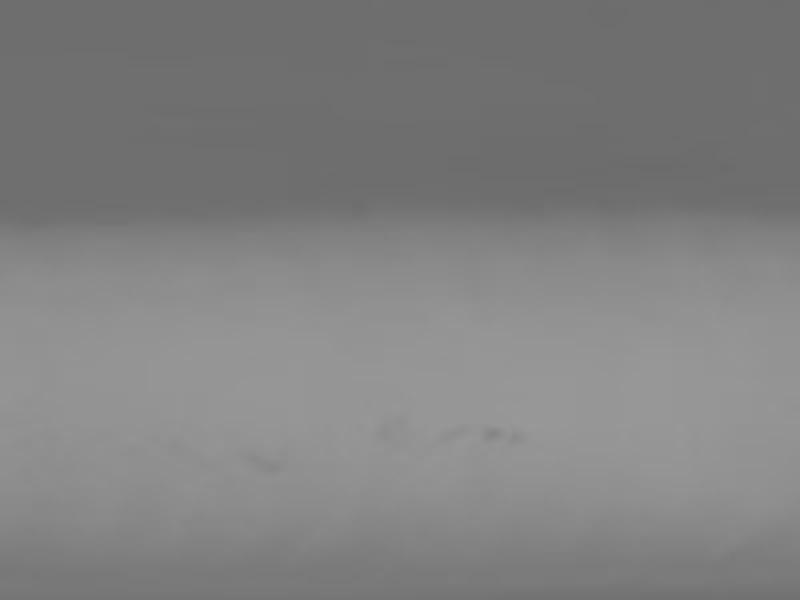defect: (255, 456, 283, 473), (505, 425, 526, 444), (485, 425, 501, 444), (241, 445, 259, 460)
